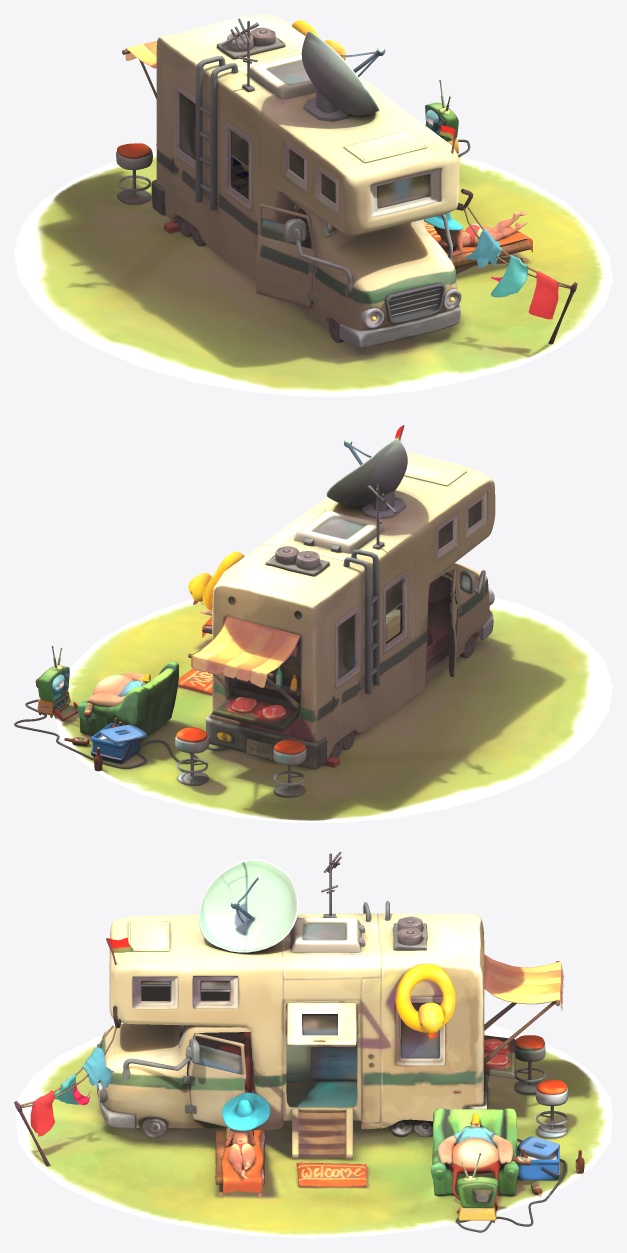
File: trailer.glb
3 views of the same model, one above another, from view 1: azimuth 30°, elevation 25°; view 2: azimuth 150°, elevation 25°; view 3: azimuth 270°, elevation 25° (orthographic). The views are drawn at different scales.
Parts seen in each view (by area): view 1: Object_2; view 2: Object_2; view 3: Object_2.
Boxes of the visible parts, box(x1,y1,x2,y2) form: Object_2: box(14, 14, 612, 396); Object_2: box(14, 425, 612, 822); Object_2: box(14, 851, 612, 1238).
Bounding box in the file's own units: 6.48 × 3.31 × 6.92.
1 material, 1 textured.
